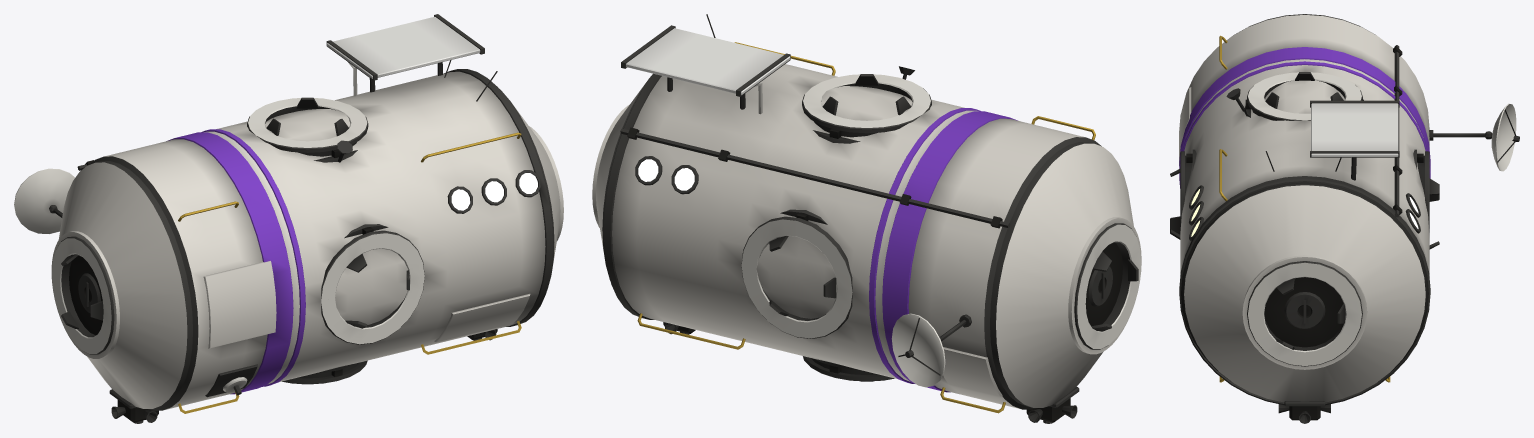
The model's file is core.glb.
3 views of the same model, side by side, from view 1: azimuth 30°, elevation 25°; view 2: azimuth 150°, elevation 25°; view 3: azimuth 270°, elevation 25° (orthographic). The views are drawn at different scales.
Parts seen in each view (by area): view 1: body, glow; view 2: body, glow; view 3: body.
Boxes of the visible parts, bbox=[...] form: body: bbox=[14, 14, 563, 423]; glow: bbox=[451, 173, 537, 210]; body: bbox=[592, 14, 1141, 423]; glow: bbox=[638, 159, 694, 190]; body: bbox=[1170, 14, 1519, 423].
Size of the model in its own units: 8.33 by 4.85 by 5.62.
